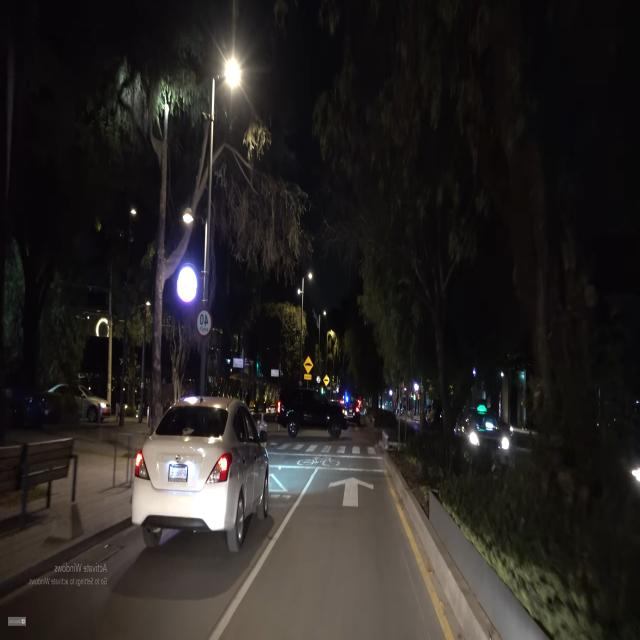headlights: (460, 426, 514, 457)
